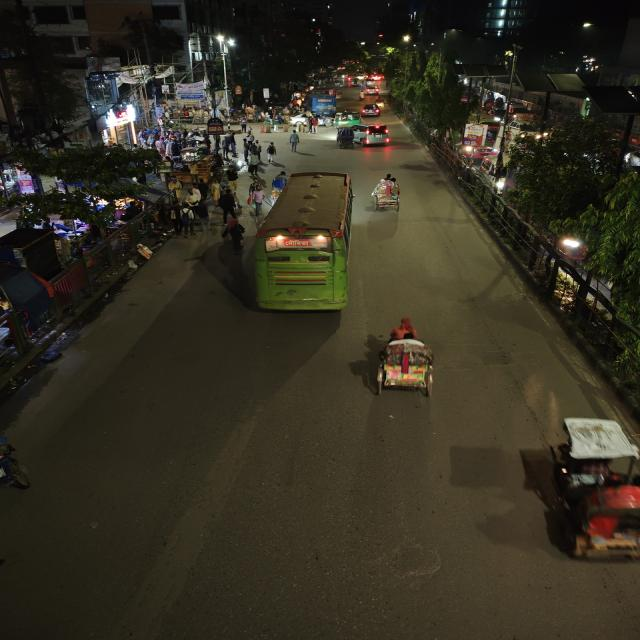bus: (250, 167, 366, 321), (308, 87, 340, 116)
car: (355, 122, 393, 148), (359, 103, 382, 117)
cng: (335, 128, 356, 150), (335, 109, 360, 127)
pedestrian: (216, 188, 242, 224), (223, 216, 248, 252), (168, 204, 189, 238), (192, 200, 213, 232), (246, 181, 266, 214), (177, 204, 196, 237), (269, 173, 289, 199), (246, 137, 262, 165), (184, 185, 203, 208), (264, 141, 278, 166), (286, 131, 301, 153), (261, 114, 277, 134), (307, 118, 317, 134)
rickshaw: (513, 428, 640, 569), (360, 314, 448, 403), (368, 171, 410, 215)
